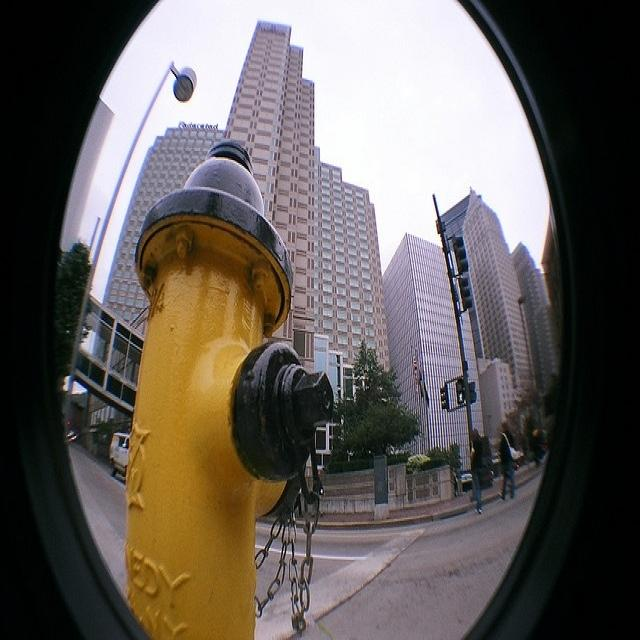fire_hydrant: (127, 96, 346, 640)
